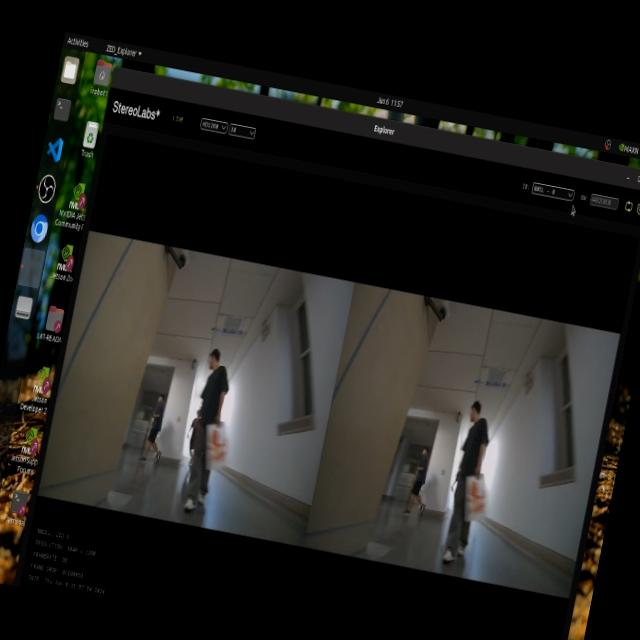red: (460, 476, 494, 530), (200, 423, 236, 468)
